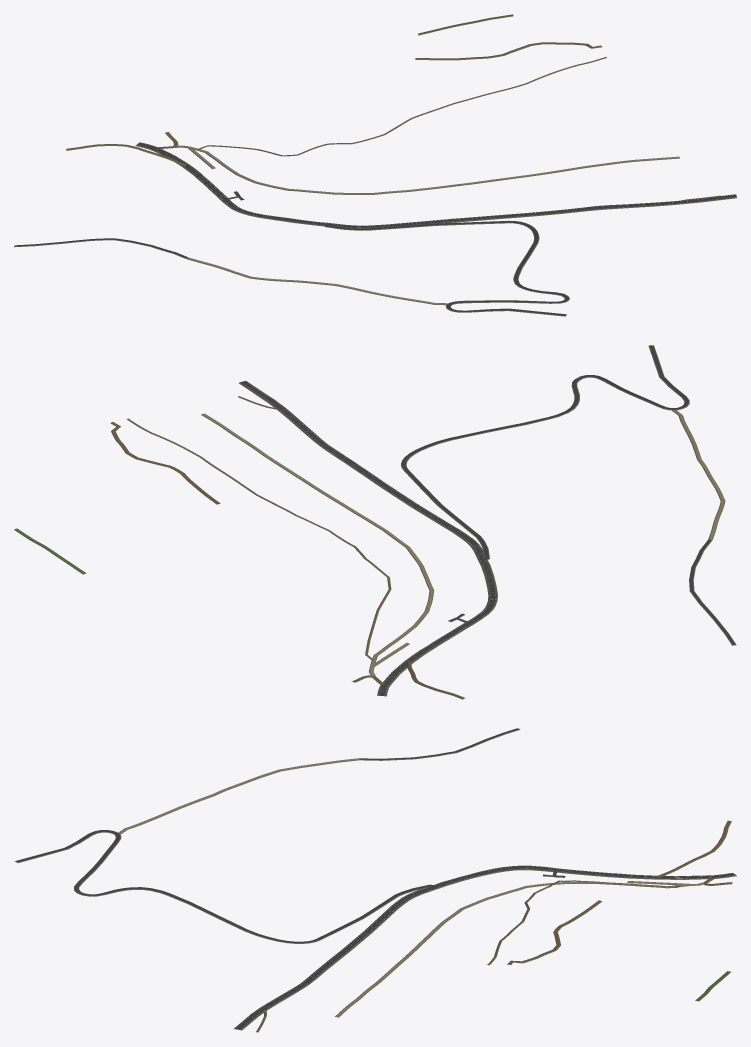
The picture shows the model from 3 angles, top to bottom: view 1: azimuth 30°, elevation 25°; view 2: azimuth 150°, elevation 25°; view 3: azimuth 270°, elevation 25°; orthographic projection. The views are drawn at different scales.
Parts seen in each view (by area): view 1: roads; view 2: roads; view 3: roads.
Boxes of the visible parts, x1,y1,x2,y2 form: roads: [14, 14, 736, 316]; roads: [14, 345, 736, 699]; roads: [15, 728, 736, 1032].
Bounding box in the file's own units: 811 × 117 × 809.
